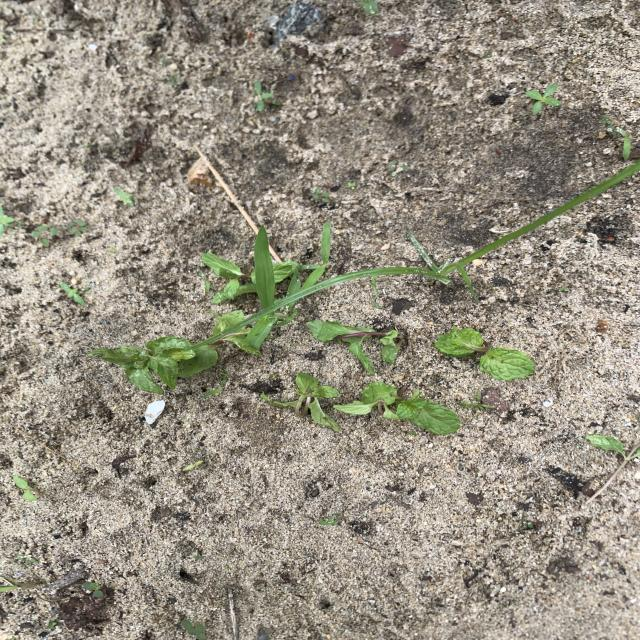crop: (334, 382, 460, 434), (90, 336, 196, 394), (434, 328, 536, 380), (306, 321, 398, 375), (260, 373, 340, 432), (185, 311, 258, 375), (581, 434, 640, 510), (212, 279, 256, 304), (201, 253, 243, 279), (273, 261, 299, 283)
weed: (183, 160, 640, 351), (286, 222, 331, 297), (255, 224, 274, 311), (601, 115, 630, 160), (242, 312, 275, 351), (526, 83, 560, 115), (254, 80, 281, 112), (459, 390, 495, 413), (30, 224, 62, 247), (59, 282, 85, 306), (13, 476, 37, 501), (181, 620, 206, 640), (271, 309, 297, 328), (0, 205, 15, 237), (83, 581, 106, 599), (113, 188, 134, 207), (388, 160, 408, 177), (622, 131, 632, 163), (371, 279, 382, 308), (312, 188, 331, 204), (69, 220, 86, 237), (198, 269, 209, 292), (182, 460, 203, 472), (363, 0, 378, 14), (204, 386, 222, 396), (319, 516, 337, 526), (85, 140, 97, 154), (521, 521, 537, 531), (205, 308, 221, 318), (167, 73, 179, 85), (219, 372, 228, 385), (345, 182, 355, 189), (269, 371, 280, 377), (106, 248, 118, 253), (560, 287, 568, 292), (407, 431, 416, 435)
